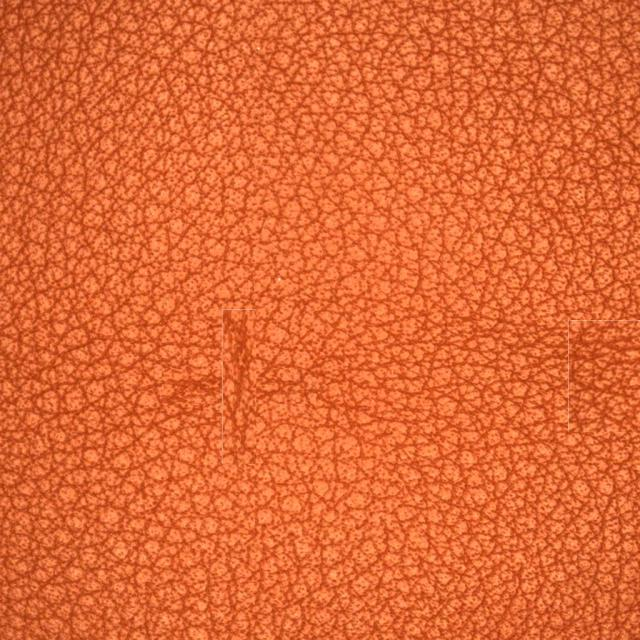Healed Injury: (408, 290, 632, 418), (180, 279, 310, 469)
